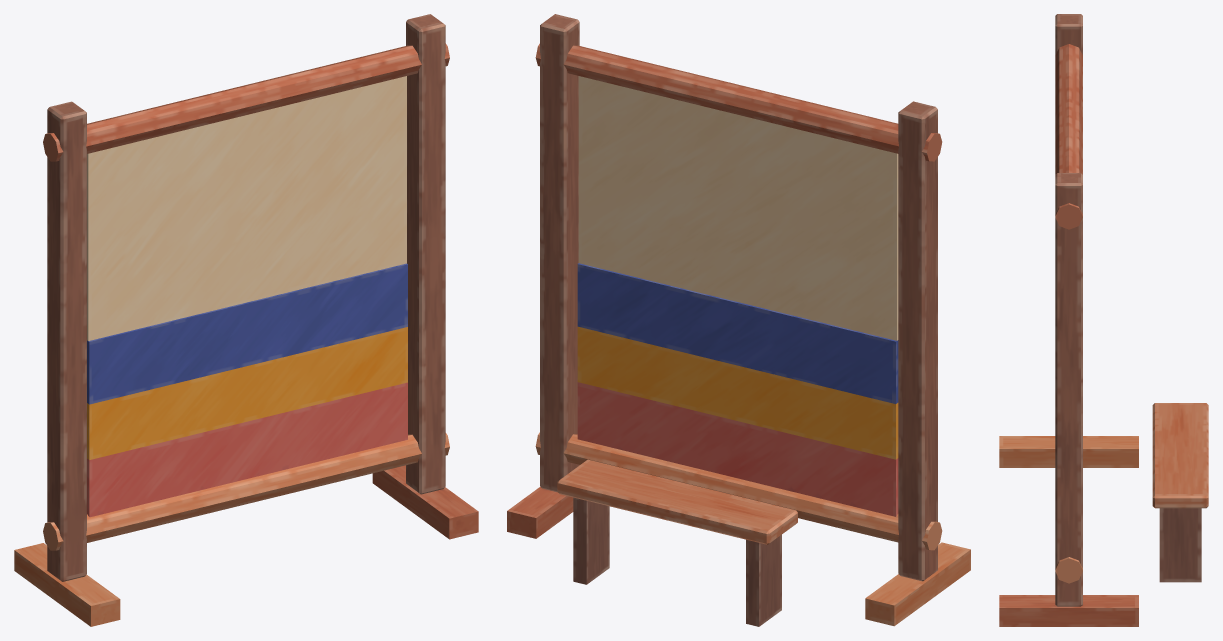
The model's file is loom.fbx.
3 renders of one model, left to right at view 1: azimuth 30°, elevation 25°; view 2: azimuth 150°, elevation 25°; view 3: azimuth 270°, elevation 25°, orthographic. The views are drawn at different scales.
Parts seen in each view (by area): view 1: loom; view 2: loom; view 3: loom.
Part boxes in pixels (left/top/right/bottom): loom: left=14, top=14, right=478, bottom=626; loom: left=507, top=14, right=970, bottom=626; loom: left=999, top=14, right=1208, bottom=626.
Size of the model in its own units: 5.9 by 7 by 3.
Materials: 1 (1 with a texture image).
